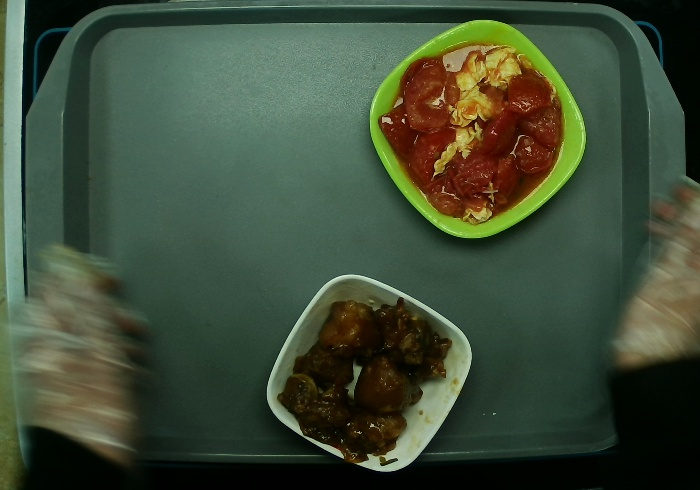SHKJ-Bai_Se_Xiao_Fang_Die: (265, 272, 474, 473)
SHKJ-Lv_Se_Cai_Die: (370, 18, 587, 239)
